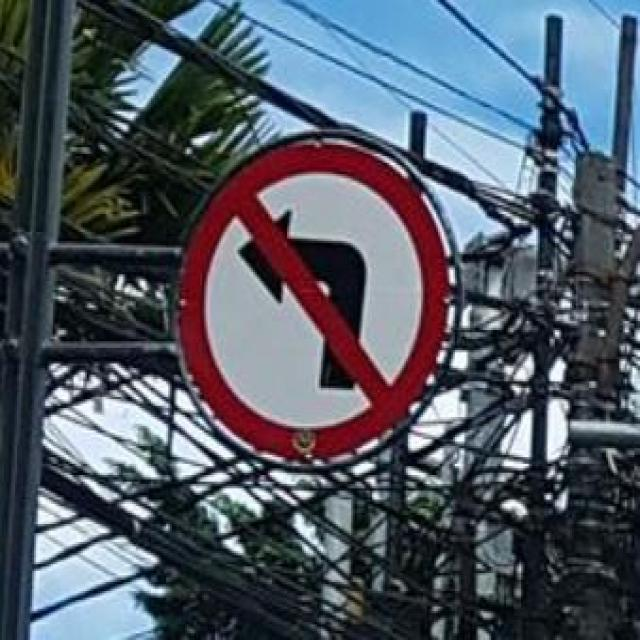traffic sign: (183, 147, 449, 454)
